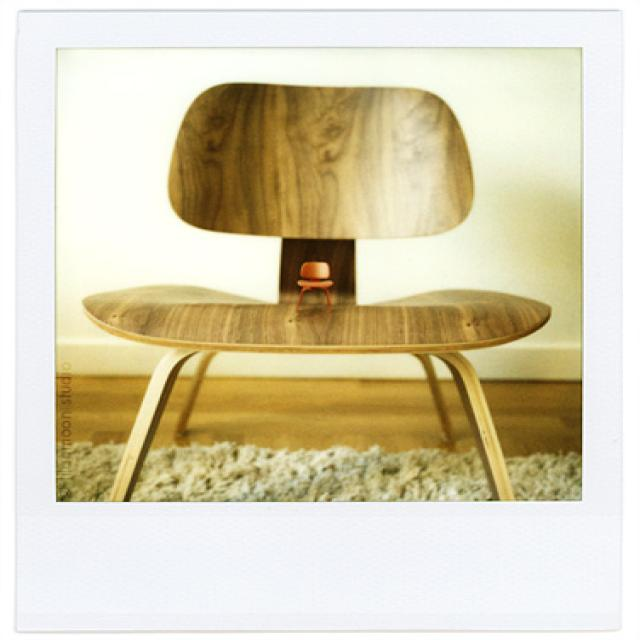chair: (80, 81, 551, 501)
